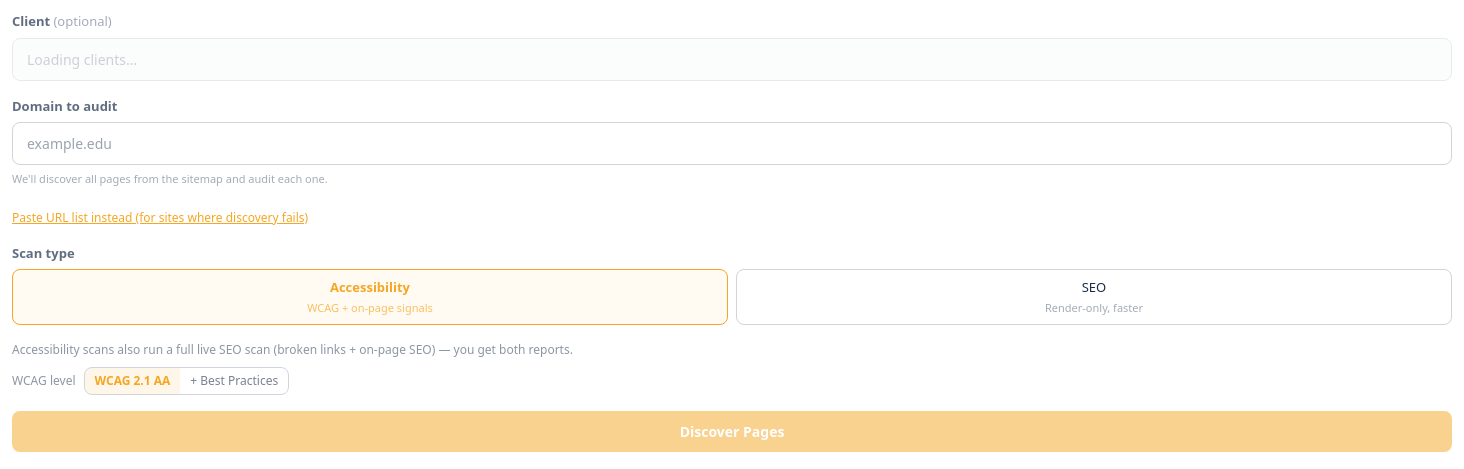
it: SiteAuditForm — SEO inclusion copy + compact WCAG (C18) › hides the SEO-inclusion copy and WCAG control under SEO intent
The width and height of the screenshot is (1464, 469).
Click the button "SEO Render-only, faster": (1094,297) [736, 269, 1452, 325]
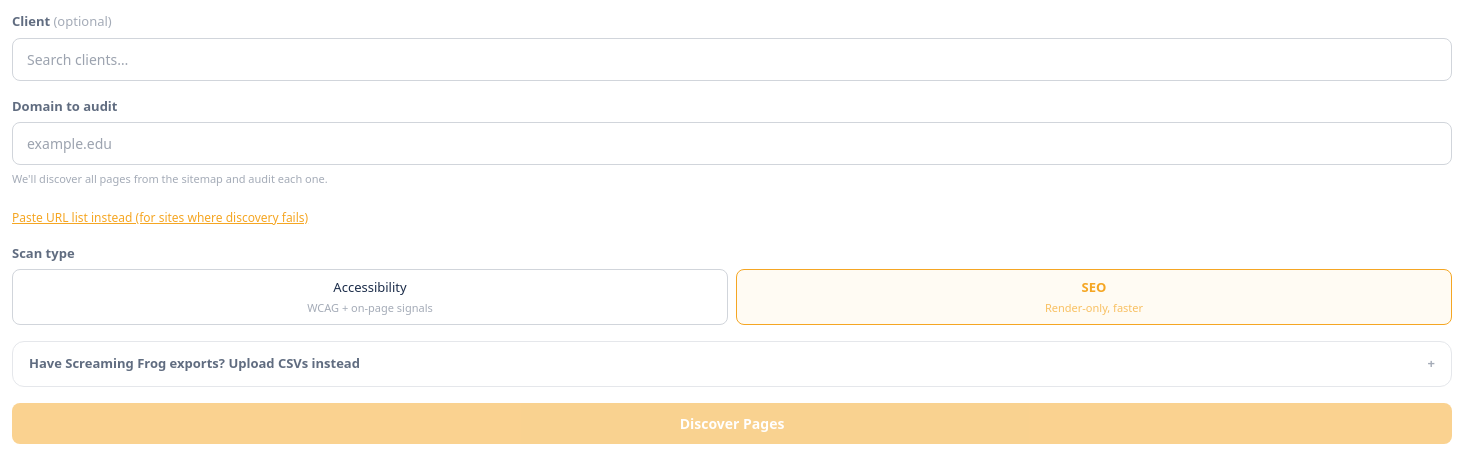
Result: the text "also run a full live SEO scan" is gone
Result: the button "Best Practices" is gone
